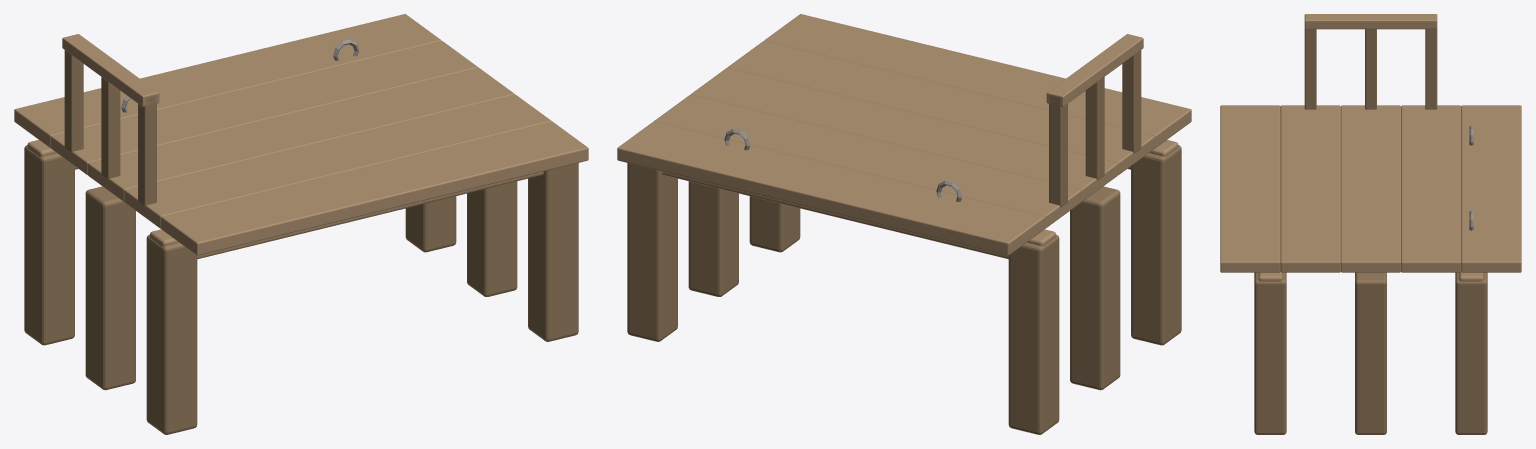
File: 40-Infraestructura_muelle_madera.glb
3 renders of one model, left to right at view 1: azimuth 30°, elevation 25°; view 2: azimuth 150°, elevation 25°; view 3: azimuth 270°, elevation 25°, orthographic. The views are drawn at different scales.
Parts seen in each view (by area): view 1: SM_Muelle_Tabla_1, SM_Muelle_Tabla_2, SM_Muelle_Tabla_3, SM_Muelle_Tabla_4, SM_Muelle_Tabla_5, SM_Muelle_Pilote_2, SM_Muelle_Pilote_1, SM_Muelle_Pilote_3, SM_Muelle_Pilote_4, SM_Muelle_Pilote_5, SM_Muelle_Pilote_6, SM_Muelle_Pasamanos (+4 smaller); view 2: SM_Muelle_Tabla_5, SM_Muelle_Tabla_4, SM_Muelle_Tabla_3, SM_Muelle_Tabla_2, SM_Muelle_Tabla_1, SM_Muelle_Pilote_2, SM_Muelle_Pilote_3, SM_Muelle_Pilote_1, SM_Muelle_Pilote_6, SM_Muelle_Pilote_5, SM_Muelle_Pilote_4, SM_Muelle_Pasamanos (+4 smaller); view 3: SM_Muelle_Tabla_1, SM_Muelle_Tabla_2, SM_Muelle_Tabla_4, SM_Muelle_Tabla_5, SM_Muelle_Tabla_3, SM_Muelle_Pilote_5, SM_Muelle_Pilote_4, SM_Muelle_Pilote_6, SM_Muelle_Pasamanos, SM_Muelle_PosteB_1, SM_Muelle_PosteB_3, SM_Muelle_PosteB_2.
Part boxes in pixels (x1,y1,x2,y2): SM_Muelle_Tabla_1: (161, 121, 588, 255); SM_Muelle_Tabla_2: (124, 94, 551, 228); SM_Muelle_Tabla_3: (87, 67, 514, 201); SM_Muelle_Tabla_4: (51, 41, 478, 174); SM_Muelle_Tabla_5: (14, 14, 441, 148); SM_Muelle_Pilote_2: (85, 186, 135, 390); SM_Muelle_Pilote_1: (146, 235, 197, 434); SM_Muelle_Pilote_3: (24, 145, 74, 345); SM_Muelle_Pilote_4: (528, 163, 578, 341); SM_Muelle_Pilote_5: (467, 181, 517, 296); SM_Muelle_Pilote_6: (405, 196, 456, 252); SM_Muelle_Pasamanos: (62, 34, 159, 106); SM_Muelle_Tabla_5: (617, 121, 1044, 255); SM_Muelle_Tabla_4: (654, 94, 1081, 228); SM_Muelle_Tabla_3: (691, 67, 1118, 201); SM_Muelle_Tabla_2: (727, 41, 1154, 174); SM_Muelle_Tabla_1: (764, 14, 1191, 148); SM_Muelle_Pilote_2: (1070, 186, 1120, 390); SM_Muelle_Pilote_3: (1008, 235, 1059, 434); SM_Muelle_Pilote_1: (1131, 145, 1181, 345); SM_Muelle_Pilote_6: (627, 163, 677, 341); SM_Muelle_Pilote_5: (688, 181, 738, 296); SM_Muelle_Pilote_4: (749, 196, 800, 252); SM_Muelle_Pasamanos: (1046, 34, 1143, 106); SM_Muelle_Tabla_1: (1220, 105, 1280, 272); SM_Muelle_Tabla_2: (1280, 105, 1340, 272); SM_Muelle_Tabla_4: (1401, 105, 1461, 272); SM_Muelle_Tabla_5: (1461, 105, 1521, 272); SM_Muelle_Tabla_3: (1341, 105, 1400, 272); SM_Muelle_Pilote_5: (1355, 272, 1386, 434); SM_Muelle_Pilote_4: (1254, 272, 1286, 434); SM_Muelle_Pilote_6: (1455, 272, 1487, 434); SM_Muelle_Pasamanos: (1304, 14, 1437, 29); SM_Muelle_PosteB_1: (1304, 29, 1316, 109); SM_Muelle_PosteB_3: (1425, 29, 1437, 109); SM_Muelle_PosteB_2: (1365, 29, 1376, 109).
Bounding box in the file's own units: 1.96 × 1.42 × 1.5.
